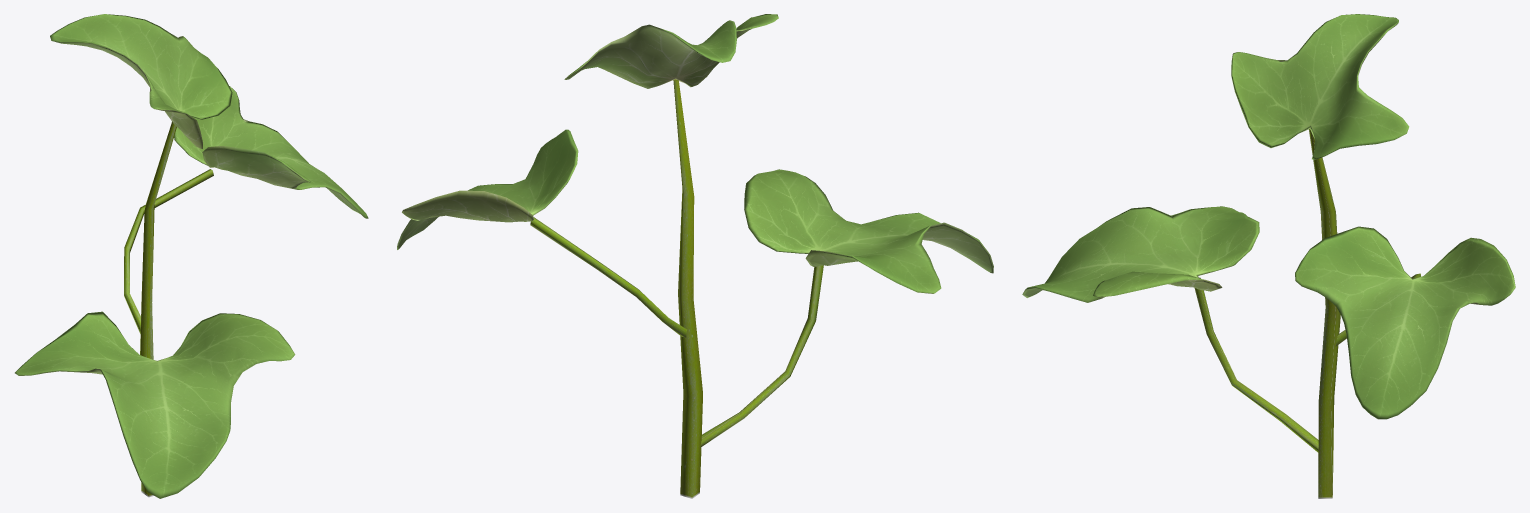
3 renders of one model, left to right at view 1: azimuth 30°, elevation 25°; view 2: azimuth 150°, elevation 25°; view 3: azimuth 270°, elevation 25°, orthographic. The views are drawn at different scales.
Visible parts, largest first — view 1: UpBrnch1; view 2: UpBrnch1; view 3: UpBrnch1.
Boxes of the visible parts, x1,y1,x2,y2 form: UpBrnch1: [15, 14, 368, 498]; UpBrnch1: [397, 14, 993, 498]; UpBrnch1: [1022, 14, 1515, 498].
Bounding box in the file's own units: 1.09 × 1.12 × 1.09.
